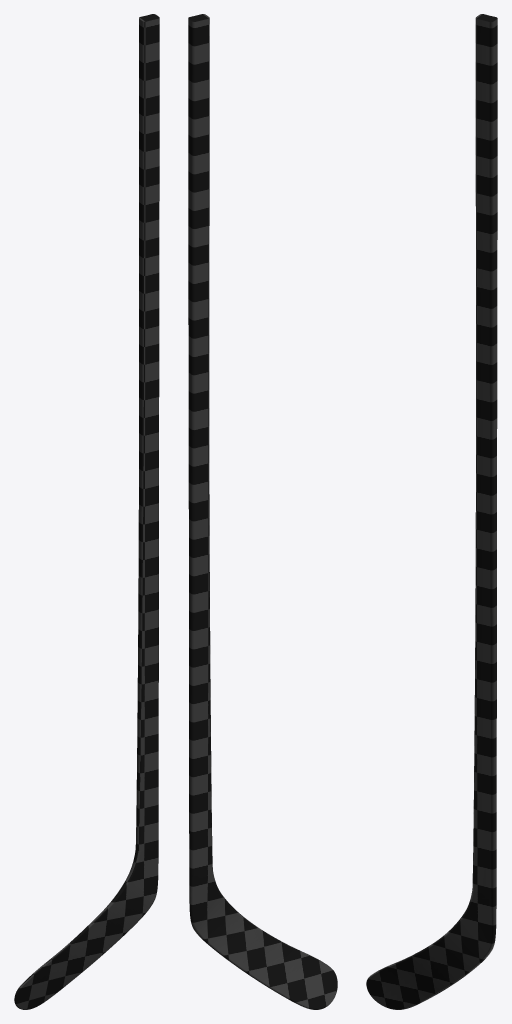
Rendered from P23-SBT.glb.
3 views of the same model, side by side, from view 1: azimuth 30°, elevation 25°; view 2: azimuth 210°, elevation 25°; view 3: azimuth 330°, elevation 25° (orthographic). The views are drawn at different scales.
Visible parts, largest first — view 1: geometry_0; view 2: geometry_0; view 3: geometry_0.
Part boxes in pixels (left/top/right/bottom): geometry_0: left=14, top=14, right=159, bottom=1009; geometry_0: left=188, top=14, right=337, bottom=1009; geometry_0: left=366, top=14, right=497, bottom=1009.
Bounding box in the file's own units: 234 × 1650 × 57.76.
Materials: 1 (1 with a texture image).
